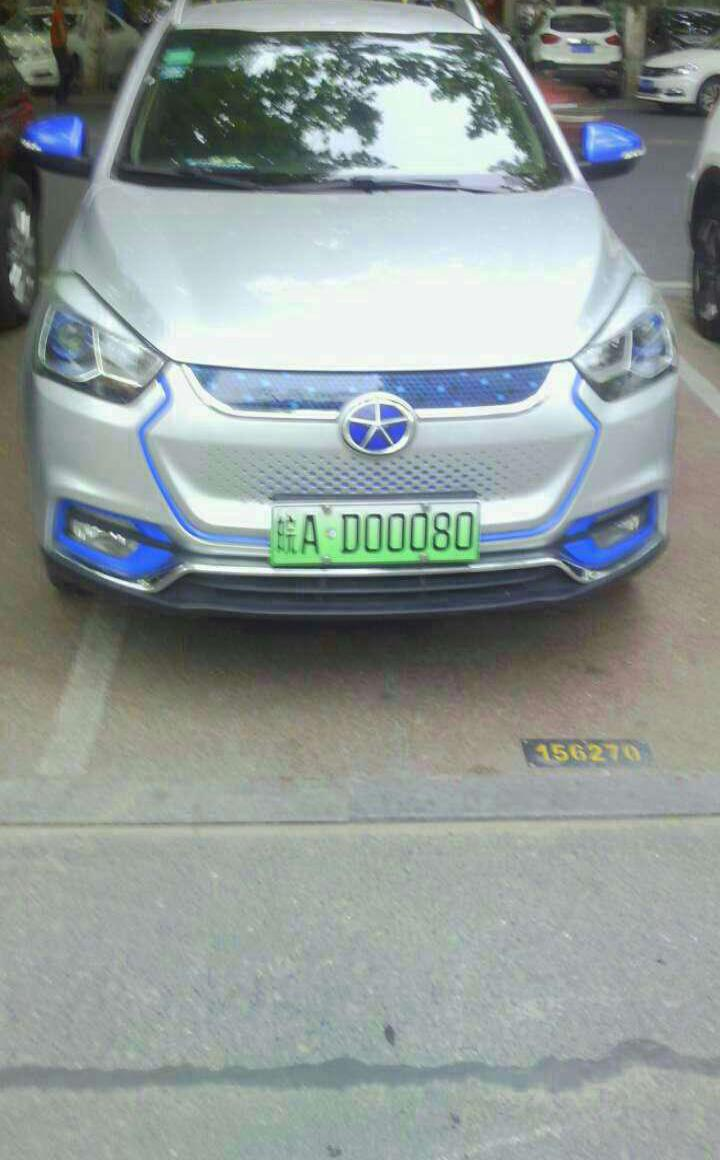car_id: (270, 502, 479, 561)
